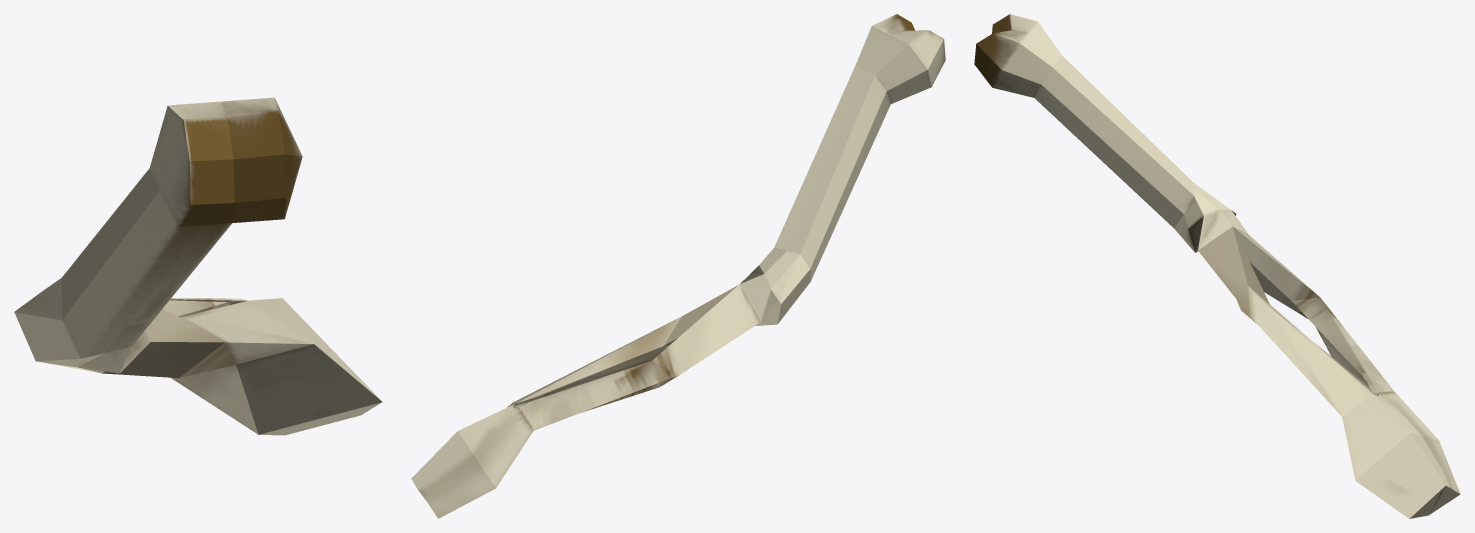
The model's file is leftarm_skele.fbx.
3 renders of one model, left to right at view 1: azimuth 30°, elevation 25°; view 2: azimuth 150°, elevation 25°; view 3: azimuth 270°, elevation 25°, orthographic. The views are drawn at different scales.
Parts seen in each view (by area): view 1: Left_Arm; view 2: Left_Arm; view 3: Left_Arm.
Part boxes in pixels (x1=…): Left_Arm: x1=14, y1=97, x2=382, y2=435; Left_Arm: x1=411, y1=14, x2=945, y2=518; Left_Arm: x1=974, y1=14, x2=1460, y2=518.
Bounding box in the file's own units: 281 × 340 × 400.
